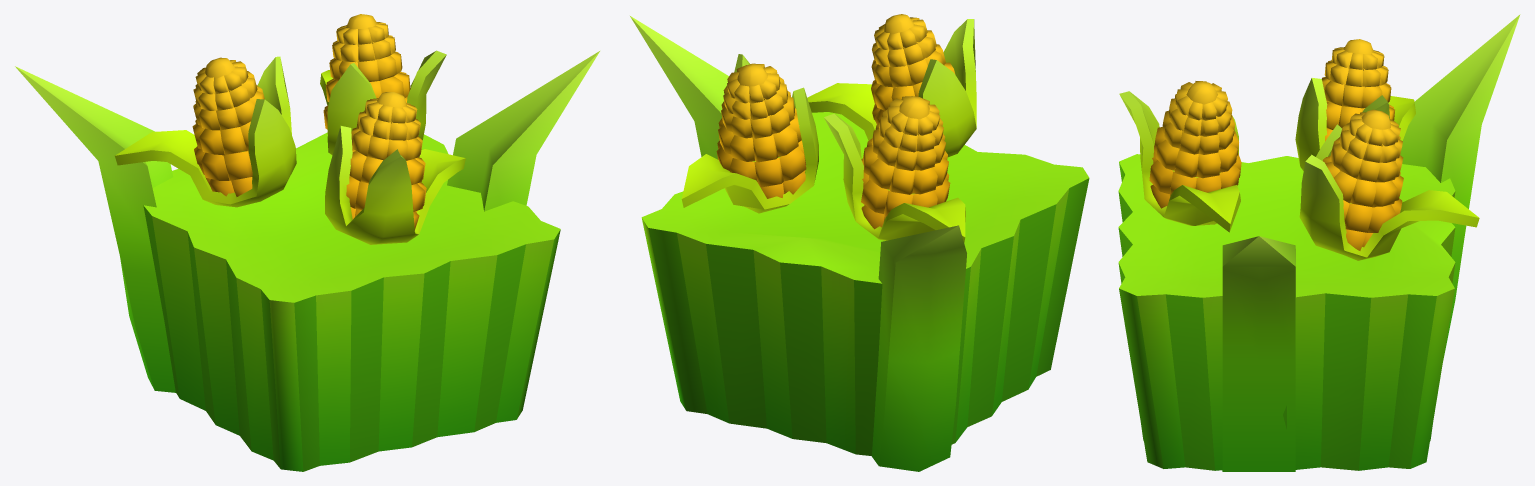
The model's file is Farm_Crop_Corn_Step_03.fbx.
The picture shows the model from 3 angles, left to right: view 1: azimuth 30°, elevation 25°; view 2: azimuth 150°, elevation 25°; view 3: azimuth 270°, elevation 25°; orthographic projection.
Visible parts, largest first — view 1: Farm_Crop_Corn_Step_03; view 2: Farm_Crop_Corn_Step_03; view 3: Farm_Crop_Corn_Step_03.
Boxes of the visible parts, left/top/right/bottom form: Farm_Crop_Corn_Step_03: left=15, top=14, right=599, bottom=471; Farm_Crop_Corn_Step_03: left=630, top=14, right=1089, bottom=471; Farm_Crop_Corn_Step_03: left=1118, top=14, right=1520, bottom=471.
Size of the model in its own units: 312 by 220 by 239.
